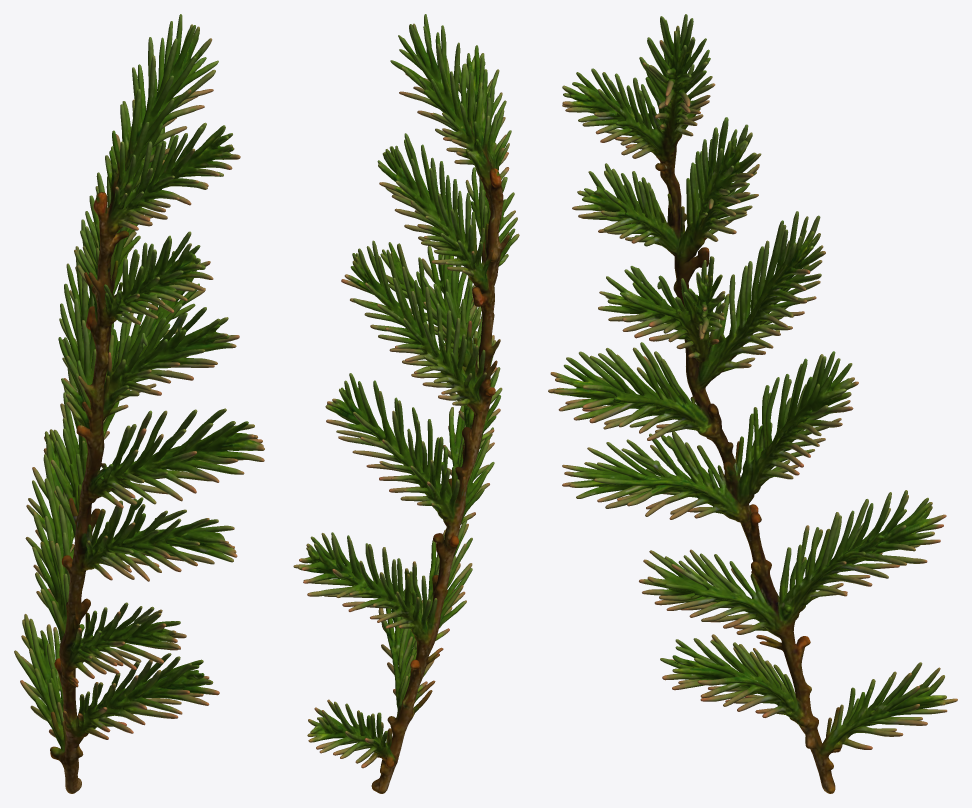
File: PineBranch.glb
3 renders of one model, left to right at view 1: azimuth 30°, elevation 25°; view 2: azimuth 150°, elevation 25°; view 3: azimuth 270°, elevation 25°, orthographic. The views are drawn at different scales.
Parts seen in each view (by area): view 1: tripo_node_964861f3-4bdf-49b9-a17c-11e33229632a; view 2: tripo_node_964861f3-4bdf-49b9-a17c-11e33229632a; view 3: tripo_node_964861f3-4bdf-49b9-a17c-11e33229632a.
Part boxes in pixels (x1,y1,x2,y2): tripo_node_964861f3-4bdf-49b9-a17c-11e33229632a: [14, 14, 264, 793]; tripo_node_964861f3-4bdf-49b9-a17c-11e33229632a: [293, 14, 519, 793]; tripo_node_964861f3-4bdf-49b9-a17c-11e33229632a: [548, 14, 957, 793].
Bounding box in the file's own units: 0.1715 × 1 × 0.4686.
1 material, 1 textured.
